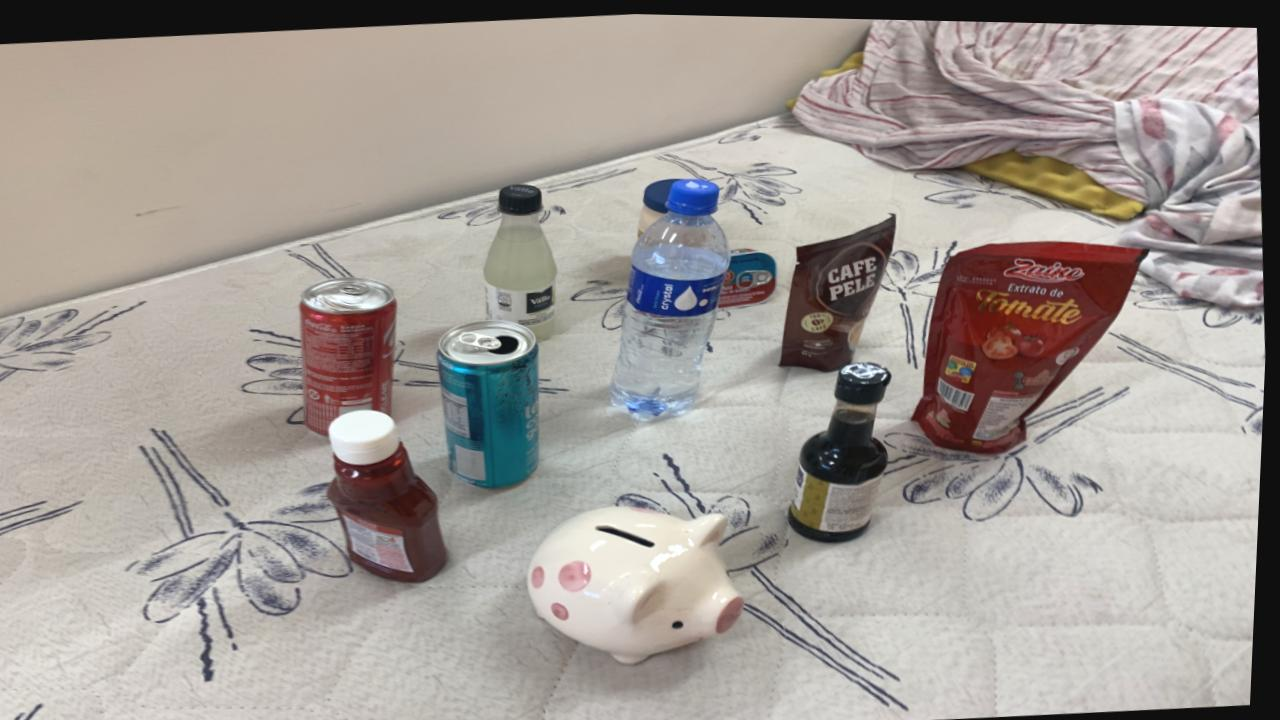Coffee-Pantry_Items: (782, 209, 898, 367)
Coke-Drinks: (302, 275, 400, 432)
English_Sauce-Pantry_Items: (793, 358, 893, 538)
Ketchup-Pantry_Items: (331, 407, 451, 580)
Mayonnaise-Pantry_Items: (639, 175, 681, 233)
Pig_Safe-Miscellaneous: (534, 502, 748, 661)
Soda-Drinks: (486, 181, 559, 338)
Tea-Drinks: (439, 317, 543, 485)
Tomato_Sauce-Pantry_Items: (917, 236, 1144, 449)
Tuna_Can-Pantry_Items: (720, 245, 779, 304)
Water_Bottle-Drinks: (613, 176, 731, 415)
